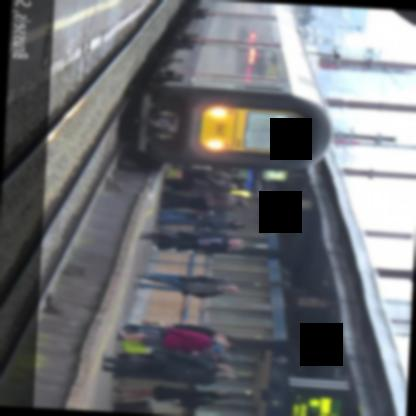backpack: (175, 397, 211, 410), (178, 396, 212, 407)
handbag: (118, 340, 153, 354), (140, 319, 164, 325)
suitcase: (111, 400, 174, 413), (170, 184, 191, 192)
